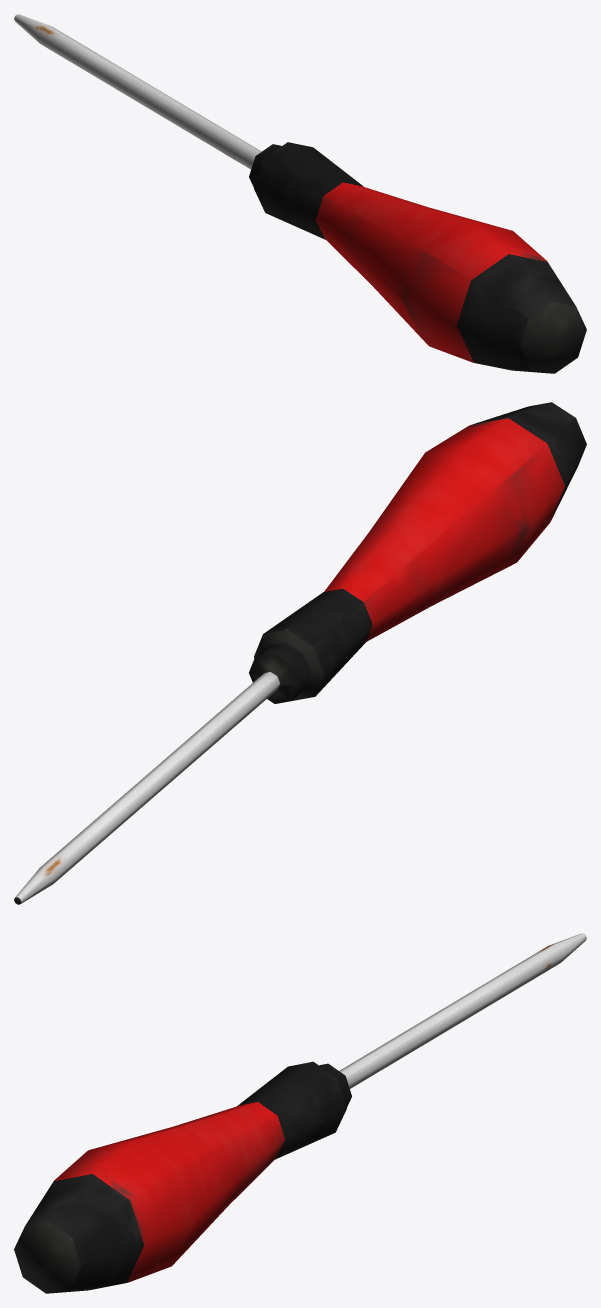
The model's file is screwdriver.fbx.
The picture shows the model from 3 angles, top to bottom: view 1: azimuth 30°, elevation 25°; view 2: azimuth 150°, elevation 25°; view 3: azimuth 330°, elevation 25°; orthographic projection.
Visible parts, largest first — view 1: screwdriver; view 2: screwdriver; view 3: screwdriver.
Part boxes in pixels (bbox=[...]): screwdriver: bbox=[14, 14, 586, 373]; screwdriver: bbox=[14, 402, 586, 904]; screwdriver: bbox=[14, 933, 586, 1293].
Size of the model in its own units: 0.0451 by 0.0457 by 0.3381.
